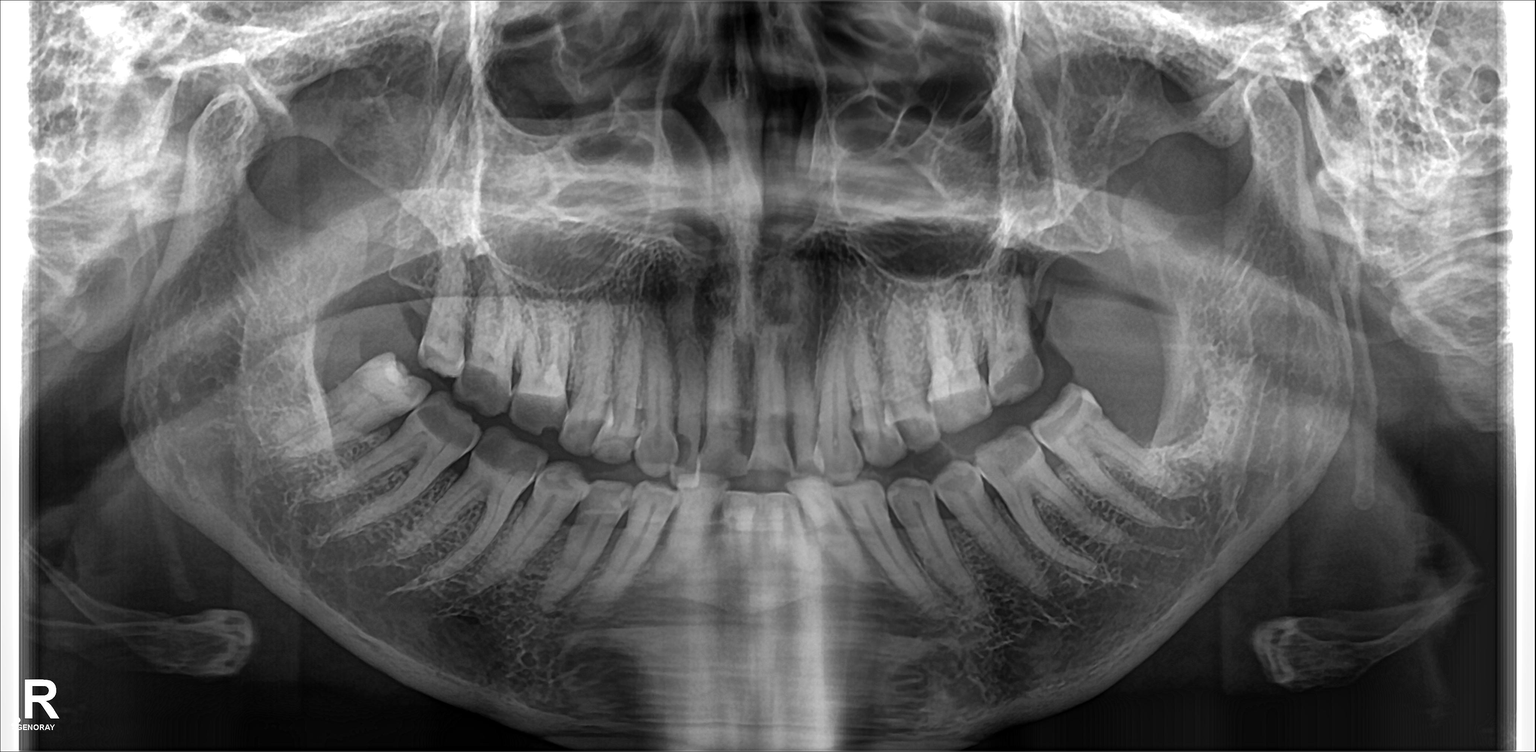Dental Caries: (479, 445, 544, 489), (415, 408, 477, 447), (514, 389, 566, 434), (462, 369, 505, 413), (641, 426, 681, 471)
Missing Tooth: (1086, 229, 1150, 352), (1114, 378, 1181, 477), (343, 227, 392, 344), (1026, 261, 1083, 343), (389, 235, 423, 356)
